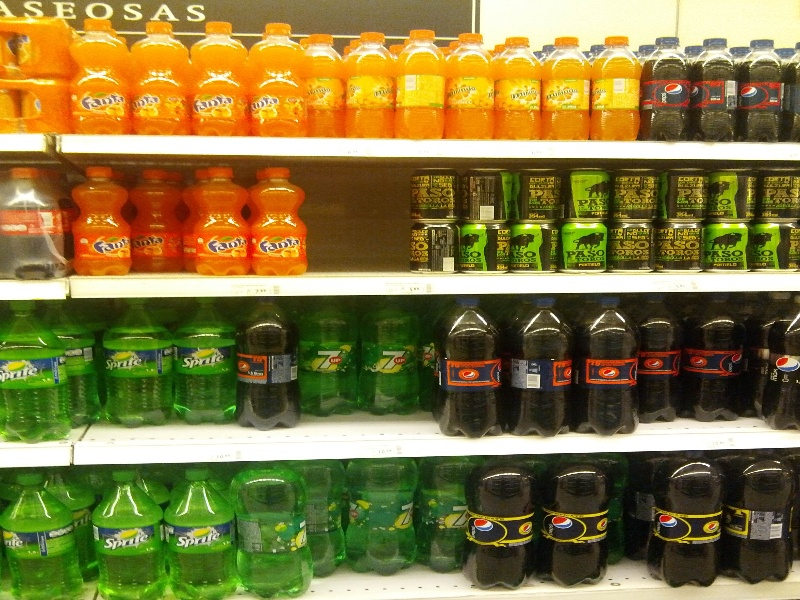lemonade: (233, 461, 317, 599), (87, 468, 170, 600), (167, 466, 242, 600), (651, 451, 725, 586), (1, 302, 72, 440), (435, 298, 504, 439), (99, 298, 175, 426), (235, 299, 306, 430), (541, 459, 610, 586), (174, 300, 241, 427), (472, 460, 536, 592), (63, 14, 131, 138), (511, 299, 572, 435), (575, 297, 635, 434), (294, 296, 361, 416), (66, 164, 136, 276), (243, 17, 308, 136), (364, 296, 425, 418), (249, 164, 311, 276), (126, 23, 187, 134), (192, 164, 249, 274), (188, 22, 243, 136), (392, 28, 445, 139), (493, 31, 545, 143), (130, 168, 185, 273), (589, 36, 641, 142), (444, 32, 496, 137), (735, 37, 787, 140), (538, 37, 589, 141), (689, 36, 738, 140), (641, 34, 687, 142)
